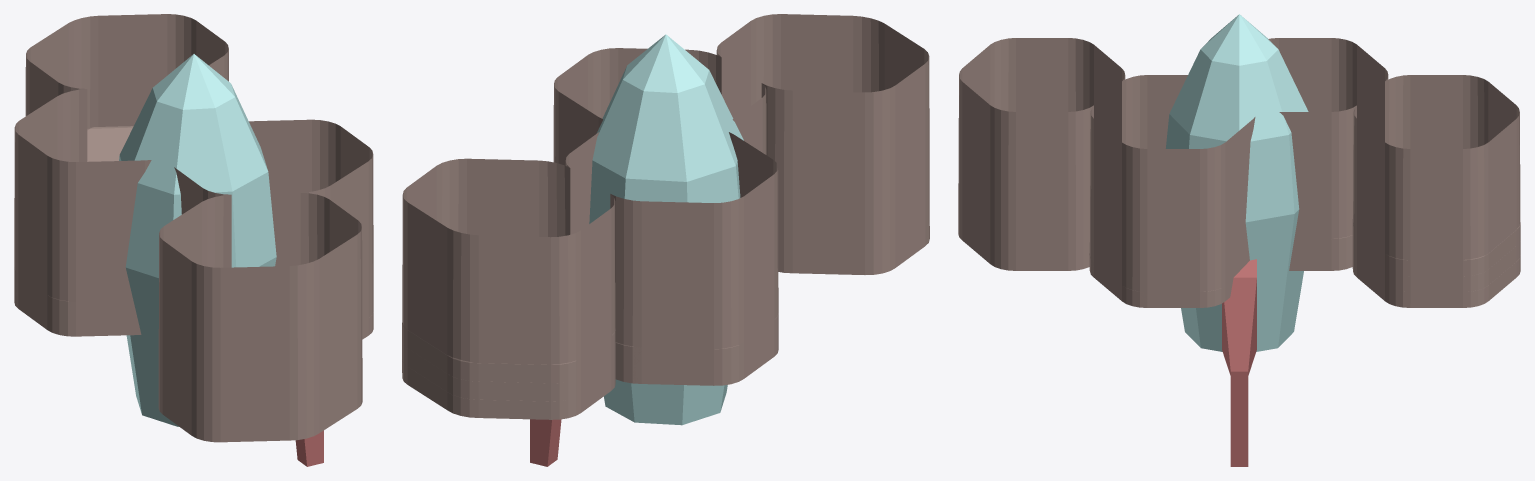
The model's file is CaptainBoost_Meshes.fbx.
3 views of the same model, side by side, from view 1: azimuth 30°, elevation 25°; view 2: azimuth 150°, elevation 25°; view 3: azimuth 270°, elevation 25° (orthographic). The views are drawn at different scales.
Parts seen in each view (by area): view 1: Cave1Base_Left_Mesh, Cave1Base_Front_Mesh, Cave1Base_Right_Mesh, Rocket1_Body, Cave1Cap_Mesh.003, Cave1Cap_Mesh.002, Rocket1_Fin; view 2: Cave1Base_Left_Mesh, Cave1Base_Right_Mesh, Rocket1_Body, Cave1Base_Front_Mesh, Cave1Cap_Mesh.003, Cave1Cap_Mesh.002, Cave1Cap_Mesh.001, Rocket1_Fin; view 3: Cave1Base_Right_Mesh, Cave1Base_Left_Mesh, Rocket1_Body, Cave1Base_Front_Mesh, Cave1Cap_Mesh.003, Rocket1_Fin, Cave1Cap_Mesh.002, Cave1Cap_Mesh.001.
Boxes of the visible parts, x1,y1,x2,y2 form: Cave1Base_Left_Mesh: (14,18,231,435); Cave1Base_Front_Mesh: (191,221,362,442); Cave1Base_Right_Mesh: (81,14,373,338); Rocket1_Body: (119,54,276,426); Cave1Cap_Mesh.003: (14,126,373,339); Cave1Cap_Mesh.002: (14,286,141,336); Rocket1_Fin: (295,430,323,466); Cave1Base_Left_Mesh: (461,64,925,415); Cave1Base_Right_Mesh: (402,21,750,359); Rocket1_Body: (589,34,743,425); Cave1Base_Front_Mesh: (751,14,929,245); Cave1Cap_Mesh.003: (402,313,778,417); Cave1Cap_Mesh.002: (402,332,778,417); Cave1Cap_Mesh.001: (402,359,575,419); Rocket1_Fin: (530,419,561,466); Cave1Base_Right_Mesh: (1016,105,1520,307); Cave1Base_Left_Mesh: (1016,38,1519,148); Rocket1_Body: (1165,14,1308,351); Cave1Base_Front_Mesh: (958,38,1015,270); Cave1Cap_Mesh.003: (1089,219,1520,307); Rocket1_Fin: (1222,259,1256,466); Cave1Cap_Mesh.002: (1289,240,1520,291); Cave1Cap_Mesh.001: (1395,256,1520,307).
Size of what is drawn, in the model's own units: 1.5 by 3.21 by 2.5.
